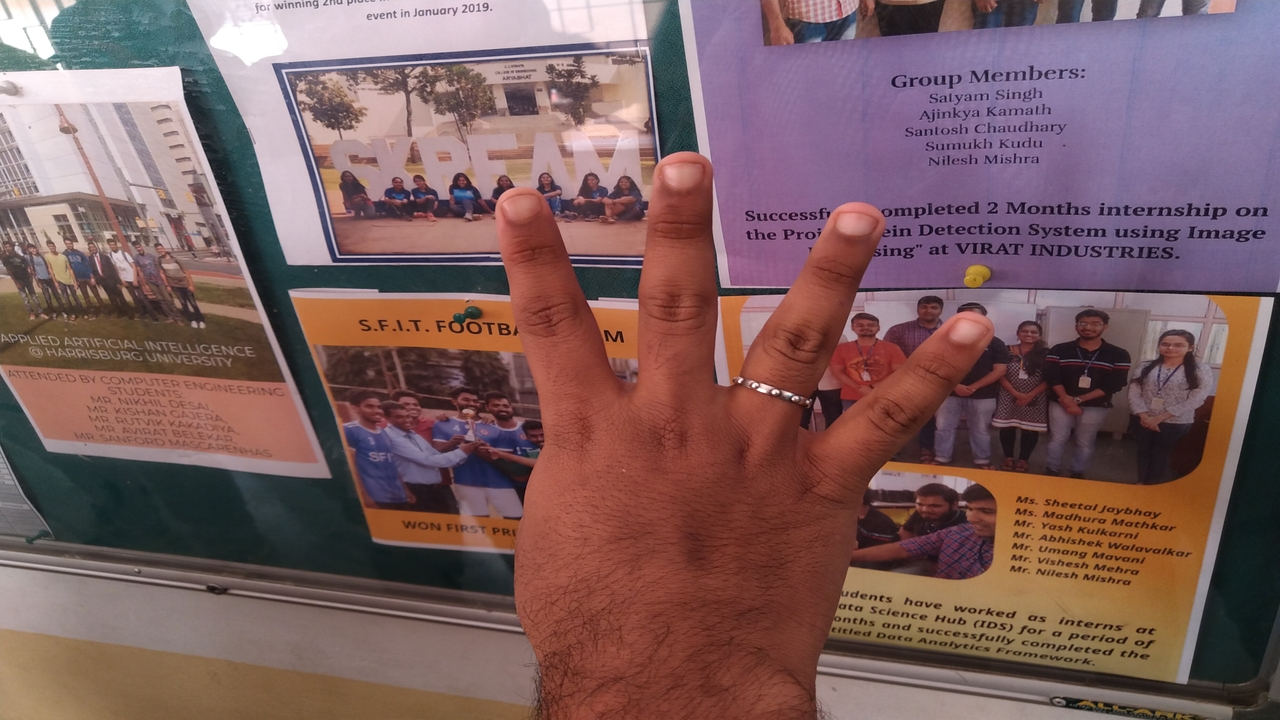fingertip: (648, 146, 712, 210), (826, 196, 890, 254), (486, 180, 546, 240), (940, 308, 998, 360)
